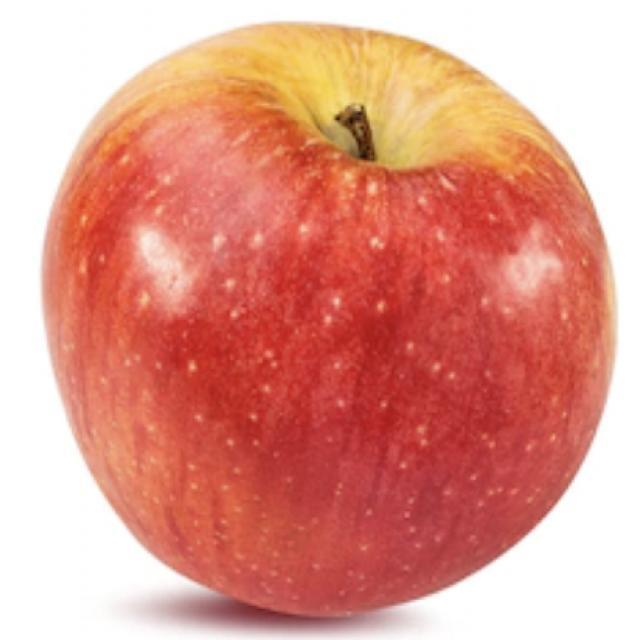Fresh Apple: (75, 32, 605, 605)
